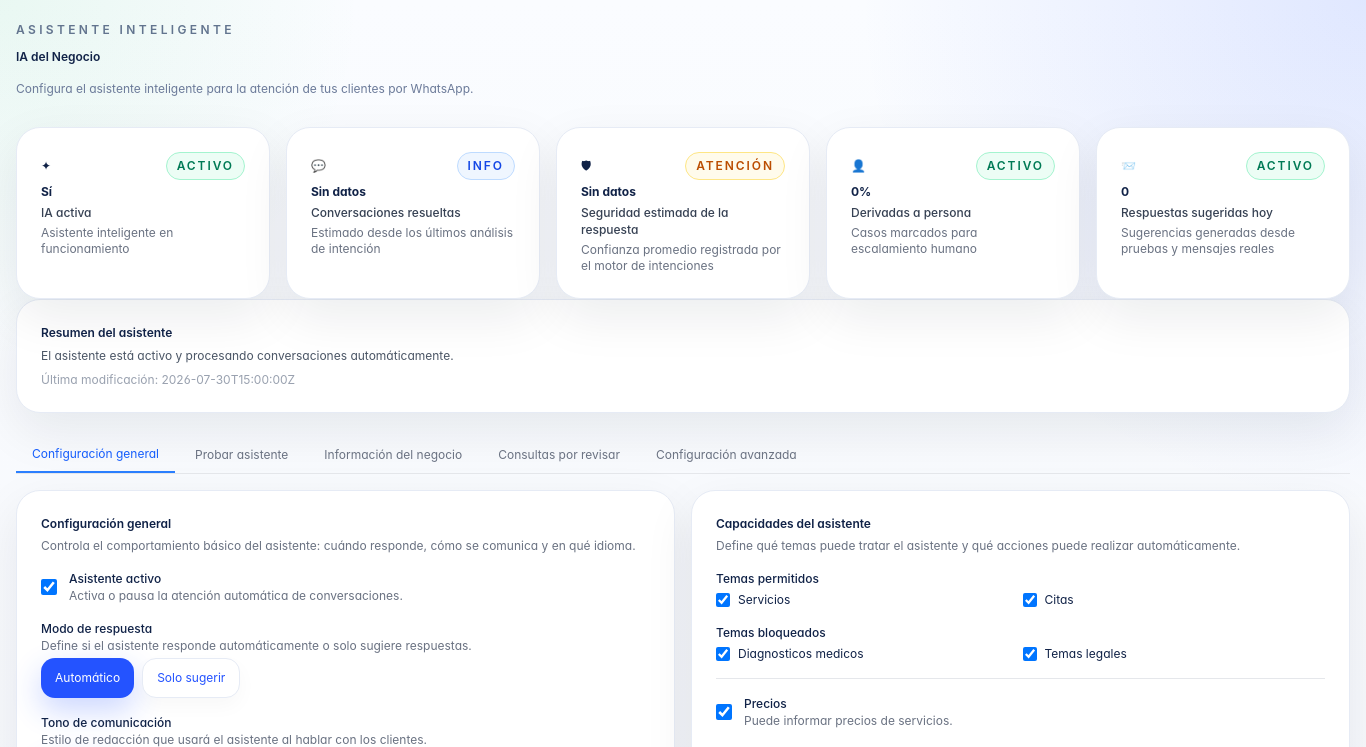
BusinessAiPage › displays routing result after preview
Click the button "Probar asistente".
click(242, 455)  # box 179,437 -> 304,473
(page scrolled)
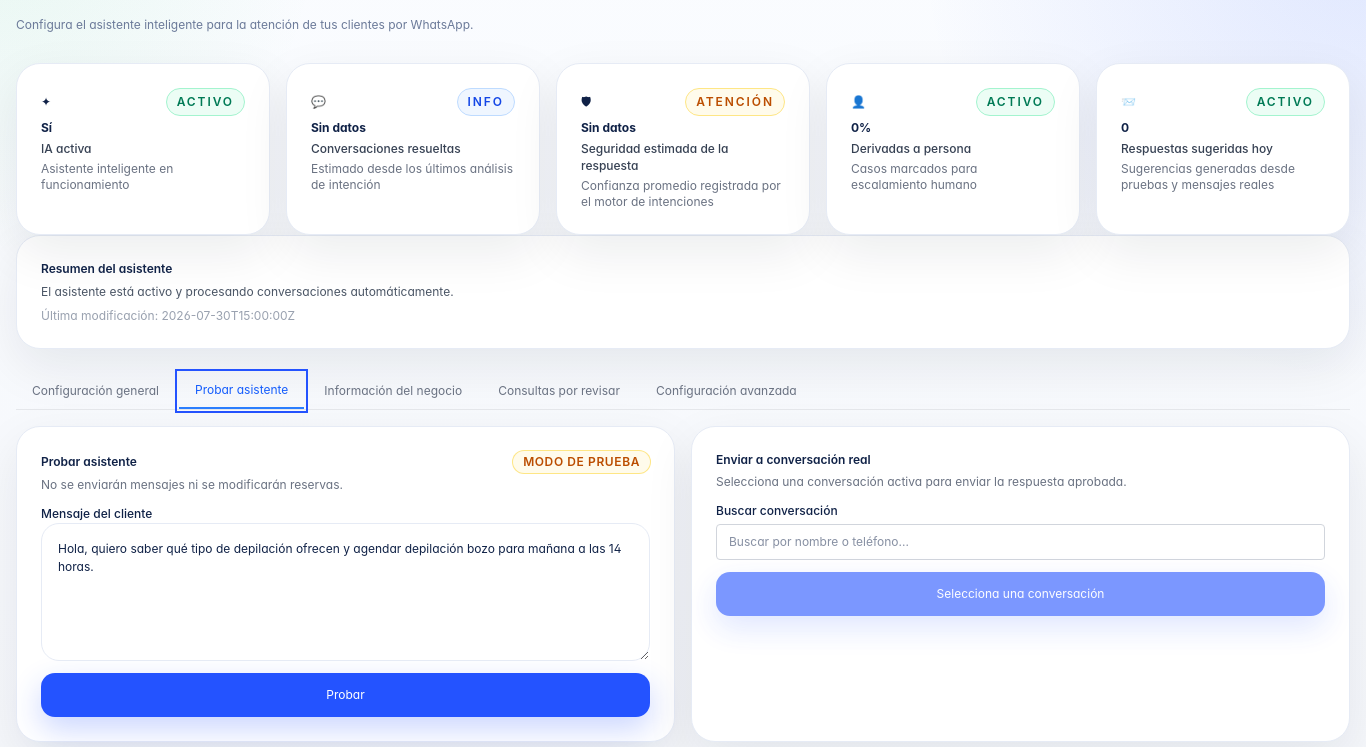
Click the button "Probar".
click(346, 695)  # box 41,673 -> 650,717
(page scrolled)
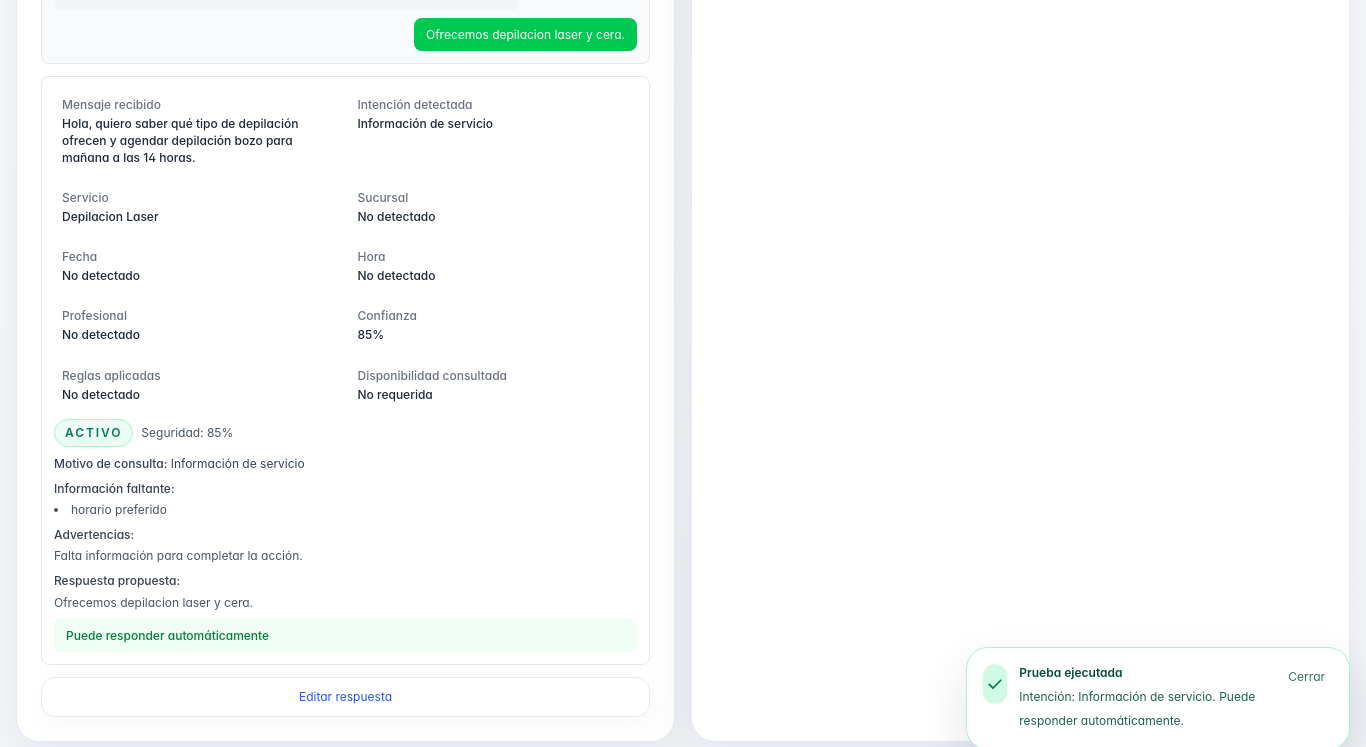
Expected: the text "Puede responder automáticamente" is shown, 54,619 -> 637,652
Expected: the text "Motivo de consulta:" is shown, 54,456 -> 167,471
Expected: the text "Seguridad: 85%" is shown, 141,424 -> 233,441
